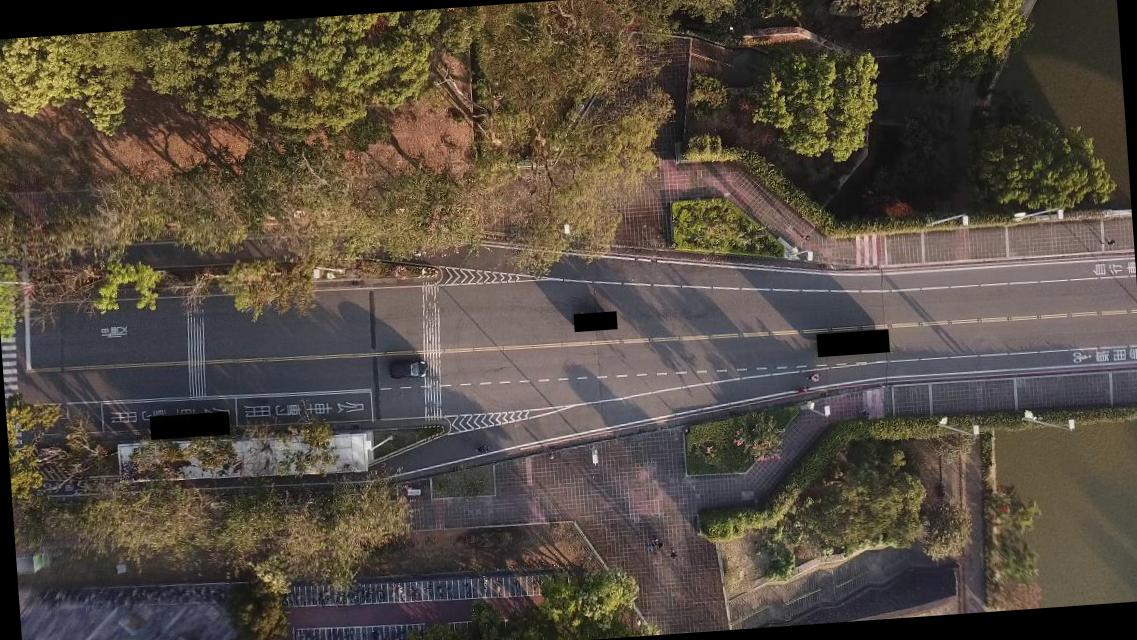vehicle: (388, 359, 428, 380)
